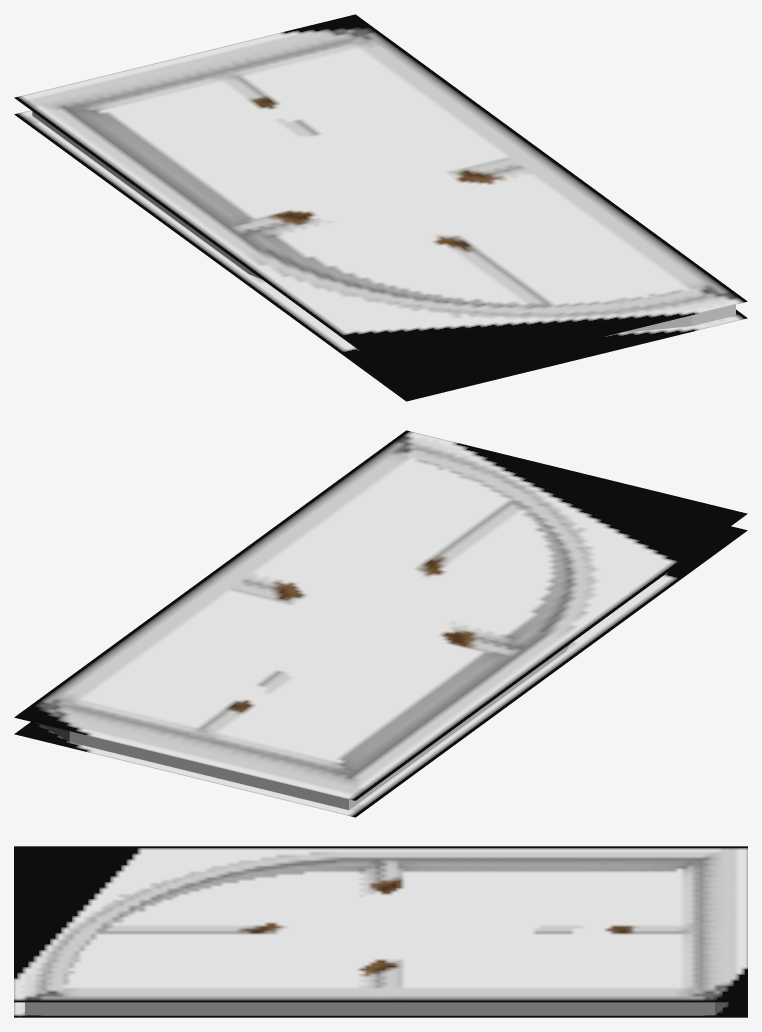
File: pz_native_fixtures_windows_white_89_frame.obj
3 renders of one model, top to bottom at view 1: azimuth 30°, elevation 25°; view 2: azimuth 150°, elevation 25°; view 3: azimuth 270°, elevation 25°, orthographic. The views are drawn at different scales.
Parts seen in each view (by area): view 1: pz_native_fixtures_windows_white_89_frame; view 2: pz_native_fixtures_windows_white_89_frame; view 3: pz_native_fixtures_windows_white_89_frame.
Boxes of the visible parts, x1,y1,x2,y2 form: pz_native_fixtures_windows_white_89_frame: (14, 14, 747, 401); pz_native_fixtures_windows_white_89_frame: (14, 430, 747, 817); pz_native_fixtures_windows_white_89_frame: (14, 846, 747, 1017).
Bounding box in the file's own units: 0.8594 × 0.04 × 1.71.
Materials: 1 (1 with a texture image).
